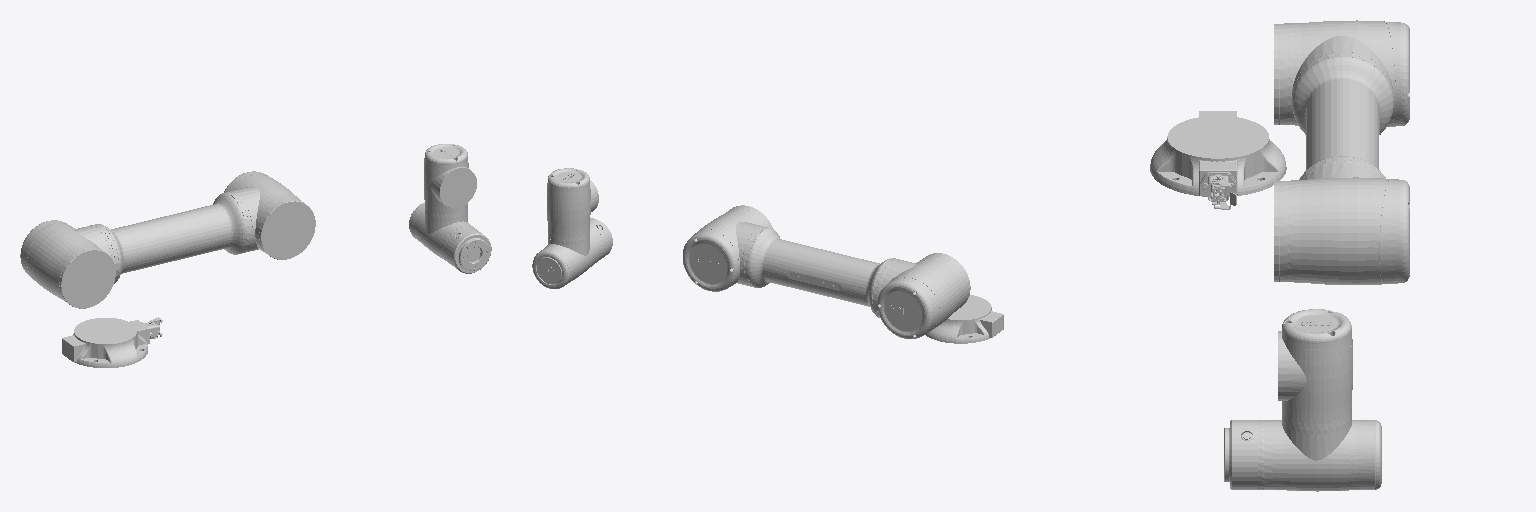
robot.urdf — Zu 5.SLDASM:
<?xml version="1.0" encoding="utf-8"?>
<!-- This URDF was automatically created by SolidWorks to URDF Exporter! Originally created by Stephen Brawner (brawner@gmail.com) 
     Commit Version: 1.6.0-4-g7f85cfe  Build Version: 1.6.7995.38578
     For more information, please see http://wiki.ros.org/sw_urdf_exporter -->
<robot
  name="Zu 5.SLDASM">
  <link
    name="Link_00">
    <inertial>
      <origin
        xyz="0.00281411995995548 -0.000194531191696483 0.0195447591183241"
        rpy="0 0 0" />
      <mass
        value="0.526598652051908" />
      <inertia
        ixx="0.000629597562234121"
        ixy="-2.42038795119825E-08"
        ixz="3.21123416404004E-06"
        iyy="0.00086870537882105"
        iyz="2.45011996420414E-07"
        izz="0.00136278998388592" />
    </inertial>
    <visual>
      <origin
        xyz="0 0 0"
        rpy="0 0 0" />
      <geometry>
        <mesh
          filename="package://Zu 5.SLDASM/meshes/Link_00.STL" />
      </geometry>
      <material
        name="">
        <color
          rgba="0.847058823529412 0.847058823529412 0.847058823529412 1" />
      </material>
    </visual>
    <collision>
      <origin
        xyz="0 0 0"
        rpy="0 0 0" />
      <geometry>
        <mesh
          filename="package://Zu 5.SLDASM/meshes/Link_00.STL" />
      </geometry>
    </collision>
  </link>
  <link
    name="Link_01">
    <inertial>
      <origin
        xyz="-2.51857531862945E-07 0.00332256500839039 -0.00150902460016494"
        rpy="0 0 0" />
      <mass
        value="15.1346479444998" />
      <inertia
        ixx="0.0443031651788231"
        ixy="-2.81167524079918E-08"
        ixz="-4.0596826899028E-07"
        iyy="0.0430901762109995"
        iyz="1.43719449704964E-05"
        izz="0.0305221713846399" />
    </inertial>
    <visual>
      <origin
        xyz="0 0 0"
        rpy="0 0 0" />
      <geometry>
        <mesh
          filename="package://Zu 5.SLDASM/meshes/Link_01.STL" />
      </geometry>
      <material
        name="">
        <color
          rgba="0.847058823529412 0.847058823529412 0.847058823529412 1" />
      </material>
    </visual>
    <collision>
      <origin
        xyz="0 0 0"
        rpy="0 0 0" />
      <geometry>
        <mesh
          filename="package://Zu 5.SLDASM/meshes/Link_01.STL" />
      </geometry>
    </collision>
  </link>
  <joint
    name="Joint01"
    type="revolute">
    <origin
      xyz="0 -0.00022535 0.12015"
      rpy="0 0 0" />
    <parent
      link="Link_00" />
    <child
      link="Link_01" />
    <axis
      xyz="0 0 -1" />
    <limit
      lower="0"
      upper="0"
      effort="0"
      velocity="0" />
  </joint>
  <link
    name="Link_02">
    <inertial>
      <origin
        xyz="0.215000100287162 6.43173034275968E-09 -0.143146610069182"
        rpy="0 0 0" />
      <mass
        value="45.8465918633366" />
      <inertia
        ixx="0.1037483140575"
        ixy="-5.87095025929926E-08"
        ixz="2.54282490391606E-07"
        iyy="0.240121009336192"
        iyz="2.15483178508248E-08"
        izz="0.212572501503178" />
    </inertial>
    <visual>
      <origin
        xyz="0 0 0"
        rpy="0 0 0" />
      <geometry>
        <mesh
          filename="package://Zu 5.SLDASM/meshes/Link_02.STL" />
      </geometry>
      <material
        name="">
        <color
          rgba="0.847058823529412 0.847058823529412 0.847058823529412 1" />
      </material>
    </visual>
    <collision>
      <origin
        xyz="0 0 0"
        rpy="0 0 0" />
      <geometry>
        <mesh
          filename="package://Zu 5.SLDASM/meshes/Link_02.STL" />
      </geometry>
    </collision>
  </link>
  <joint
    name="Joint02"
    type="revolute">
    <origin
      xyz="0 0 0"
      rpy="1.5708 0 0" />
    <parent
      link="Link_01" />
    <child
      link="Link_02" />
    <axis
      xyz="0 0 1" />
    <limit
      lower="0"
      upper="0"
      effort="0"
      velocity="0" />
  </joint>
  <link
    name="Link_03">
    <inertial>
      <origin
        xyz="0.190735496583493 -1.52687675682717E-05 -0.0106365862195608"
        rpy="0 0 0" />
      <mass
        value="18.0534564554839" />
      <inertia
        ixx="0.0197914204709761"
        ixy="6.48612971204404E-07"
        ixz="-0.0162800799758652"
        iyy="0.168630223367361"
        iyz="3.37641397447918E-07"
        izz="0.16527336838242" />
    </inertial>
    <visual>
      <origin
        xyz="0 0 0"
        rpy="0 0 0" />
      <geometry>
        <mesh
          filename="package://Zu 5.SLDASM/meshes/Link_03.STL" />
      </geometry>
      <material
        name="">
        <color
          rgba="0.847058823529412 0.847058823529412 0.847058823529412 1" />
      </material>
    </visual>
    <collision>
      <origin
        xyz="0 0 0"
        rpy="0 0 0" />
      <geometry>
        <mesh
          filename="package://Zu 5.SLDASM/meshes/Link_03.STL" />
      </geometry>
    </collision>
  </link>
  <joint
    name="Joint03"
    type="revolute">
    <origin
      xyz="0.43 0 0"
      rpy="0 0 0" />
    <parent
      link="Link_02" />
    <child
      link="Link_03" />
    <axis
      xyz="0 0 1" />
    <limit
      lower="0"
      upper="0"
      effort="0"
      velocity="0" />
  </joint>
  <link
    name="Link_04">
    <inertial>
      <origin
        xyz="-1.98734804579548E-06 -0.00595118756440464 0.00267886074216196"
        rpy="0 0 0" />
      <mass
        value="5.53782702890545" />
      <inertia
        ixx="0.00708415707773477"
        ixy="1.83211236329591E-07"
        ixz="-2.36169851115656E-08"
        iyy="0.00516123063669001"
        iyz="-0.000397739879929697"
        izz="0.00684324625577803" />
    </inertial>
    <visual>
      <origin
        xyz="0 0 0"
        rpy="0 0 0" />
      <geometry>
        <mesh
          filename="package://Zu 5.SLDASM/meshes/Link_04.STL" />
      </geometry>
      <material
        name="">
        <color
          rgba="0.847058823529412 0.847058823529412 0.847058823529412 1" />
      </material>
    </visual>
    <collision>
      <origin
        xyz="0 0 0"
        rpy="0 0 0" />
      <geometry>
        <mesh
          filename="package://Zu 5.SLDASM/meshes/Link_04.STL" />
      </geometry>
    </collision>
  </link>
  <joint
    name="Joint04"
    type="revolute">
    <origin
      xyz="0.3685 -1.185E-05 -0.114"
      rpy="0 0 0" />
    <parent
      link="Link_03" />
    <child
      link="Link_04" />
    <axis
      xyz="0 0 -1" />
    <limit
      lower="0"
      upper="0"
      effort="0"
      velocity="0" />
  </joint>
  <link
    name="Link_05">
    <inertial>
      <origin
        xyz="-1.90944871258925E-06 -0.00288907759425719 -0.00234237394169147"
        rpy="0 0 0" />
      <mass
        value="6.33394466548073" />
      <inertia
        ixx="0.012920396120737"
        ixy="-1.08659585912681E-07"
        ixz="5.89055788634786E-09"
        iyy="0.00584529345673904"
        iyz="4.29603782509824E-05"
        izz="0.0126275585433332" />
    </inertial>
    <visual>
      <origin
        xyz="0 0 0"
        rpy="0 0 0" />
      <geometry>
        <mesh
          filename="package://Zu 5.SLDASM/meshes/Link_05.STL" />
      </geometry>
      <material
        name="">
        <color
          rgba="0.847058823529412 0.847058823529412 0.847058823529412 1" />
      </material>
    </visual>
    <collision>
      <origin
        xyz="0 0 0"
        rpy="0 0 0" />
      <geometry>
        <mesh
          filename="package://Zu 5.SLDASM/meshes/Link_05.STL" />
      </geometry>
    </collision>
  </link>
  <joint
    name="Joint05"
    type="revolute">
    <origin
      xyz="0 -0.1135 0"
      rpy="1.5708 0 0" />
    <parent
      link="Link_04" />
    <child
      link="Link_05" />
    <axis
      xyz="0 0 1" />
    <limit
      lower="0"
      upper="0"
      effort="0"
      velocity="0" />
  </joint>
  <link
    name="Link_06">
    <inertial>
      <origin
        xyz="2.76523161145681E-05 -1.34854737601593E-05 -0.021245060068734"
        rpy="0 0 0" />
      <mass
        value="1.41689125820954" />
      <inertia
        ixx="0.000713704897956401"
        ixy="-6.91164349011104E-07"
        ixz="-6.36734535409925E-07"
        iyy="0.000723626940396581"
        iyz="1.5890038073838E-06"
        izz="0.00112895600939514" />
    </inertial>
    <visual>
      <origin
        xyz="0 0 0"
        rpy="0 0 0" />
      <geometry>
        <mesh
          filename="package://Zu 5.SLDASM/meshes/Link_06.STL" />
      </geometry>
      <material
        name="">
        <color
          rgba="0.847058823529412 0.847058823529412 0.847058823529412 1" />
      </material>
    </visual>
    <collision>
      <origin
        xyz="0 0 0"
        rpy="0 0 0" />
      <geometry>
        <mesh
          filename="package://Zu 5.SLDASM/meshes/Link_06.STL" />
      </geometry>
    </collision>
  </link>
  <joint
    name="Joint06"
    type="revolute">
    <origin
      xyz="0 0.107 0"
      rpy="-1.5708 0 0" />
    <parent
      link="Link_05" />
    <child
      link="Link_06" />
    <axis
      xyz="0 0 1" />
    <limit
      lower="0"
      upper="0"
      effort="0"
      velocity="0" />
  </joint>
</robot>

--- What the picture shows (computed from the rendered views, not written in the file) ---
3 views of the same robot in one strip: view 1: azimuth 30°, elevation 25°; view 2: azimuth 150°, elevation 25°; view 3: azimuth 270°, elevation 25° (orthographic).
Robot: Zu 5.SLDASM — 7 links, 6 joints (6 revolute); root link Link_00; default pose: all joints at 0.
Visible links, largest first — view 1: Link_02, Link_00, Link_04, Link_06, Link_05; view 2: Link_02, Link_04, Link_05, Link_00; view 3: Link_02, Link_00, Link_04, Link_05, Link_06.
Link boxes in pixels (x1,y1,x2,y2): Link_02: [20, 171, 315, 308]; Link_00: [62, 317, 162, 367]; Link_04: [424, 144, 476, 220]; Link_06: [446, 227, 491, 273]; Link_05: [409, 202, 476, 263]; Link_02: [683, 205, 970, 338]; Link_04: [547, 168, 598, 243]; Link_05: [532, 226, 604, 288]; Link_00: [925, 295, 1003, 343]; Link_02: [1274, 20, 1409, 284]; Link_00: [1150, 111, 1286, 209]; Link_04: [1278, 309, 1352, 433]; Link_05: [1258, 420, 1381, 491]; Link_06: [1224, 420, 1257, 489].
Bounding box of the posed robot: 0.9226 × 0.3006 × 0.2181 m (x, y, z).
Meshes: 7 distinct files referenced, 5 mesh visuals loaded (5 binary STL); not drawn: 2 (reference not matched to a file when rendering).
